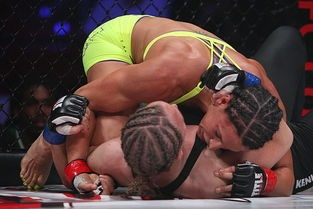falling: (12, 9, 302, 196)
